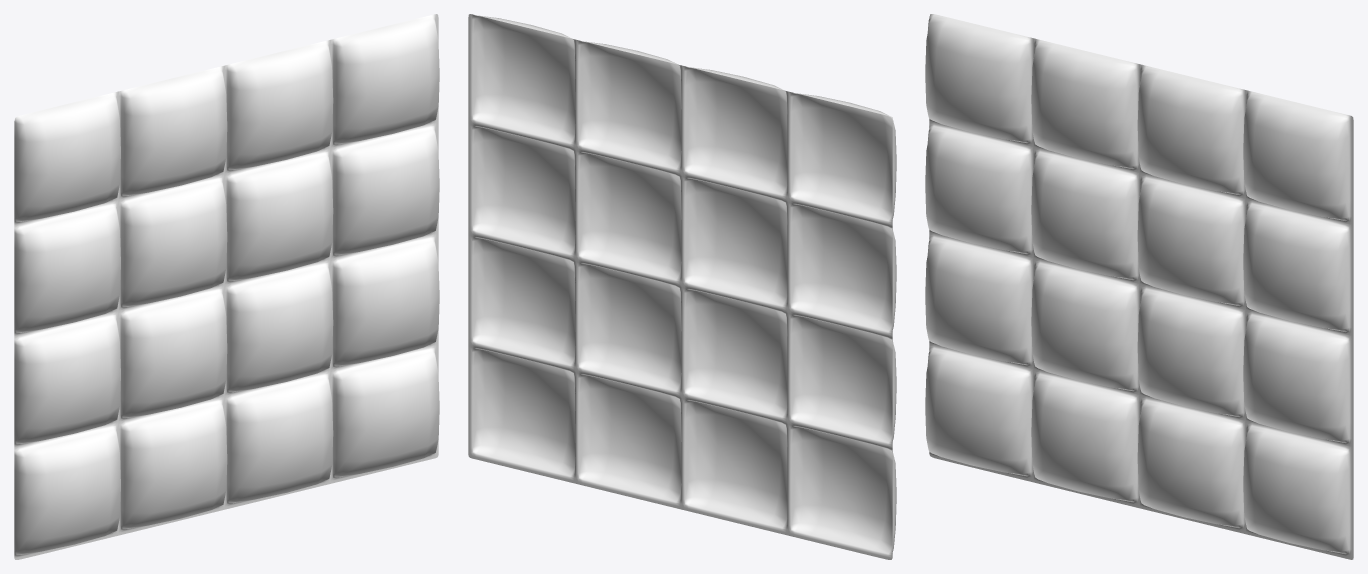
Rendered from Pared_007.fbx.
The picture shows the model from 3 angles, left to right: view 1: azimuth 30°, elevation 25°; view 2: azimuth 150°, elevation 25°; view 3: azimuth 330°, elevation 25°; orthographic projection.
Visible parts, largest first — view 1: Plane; view 2: Plane; view 3: Plane.
Part boxes in pixels (x1,y1,x2,y2): Plane: (14, 14, 439, 559); Plane: (468, 14, 896, 559); Plane: (925, 14, 1353, 559).
Size of the model in its own units: 600 by 600 by 39.87.
